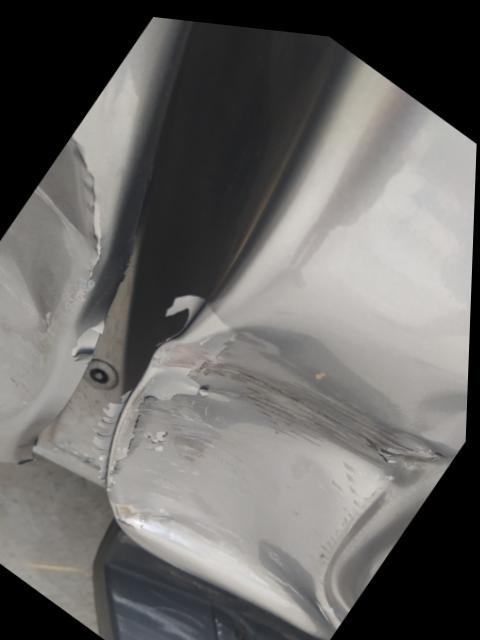dent: (107, 316, 470, 621), (0, 134, 99, 422)
